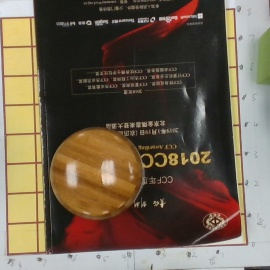chess: (51, 129, 145, 221)
